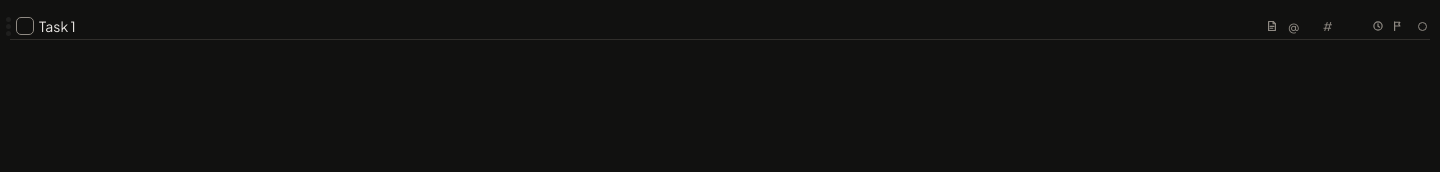
Test: TaskRow › dates cell › an icons-only part still gives its date in the tooltip
Step 1. Hover over the button named "Follow-up: Fri 24" → (1398,26), box [1389,14,1407,38]
Wait 400 ms
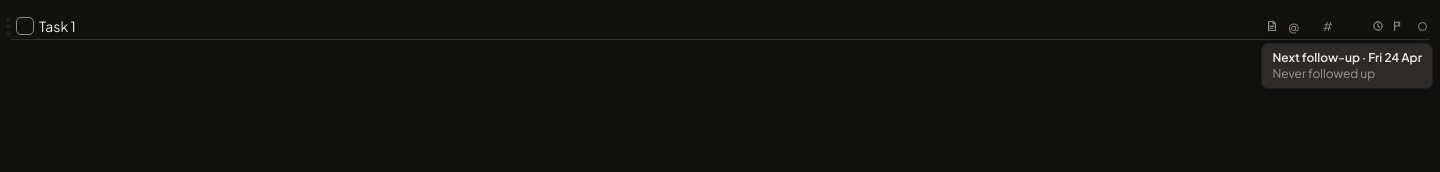
Now the tooltip shows "Next follow-up · Fri 24", box [1272,50,1422,65]
